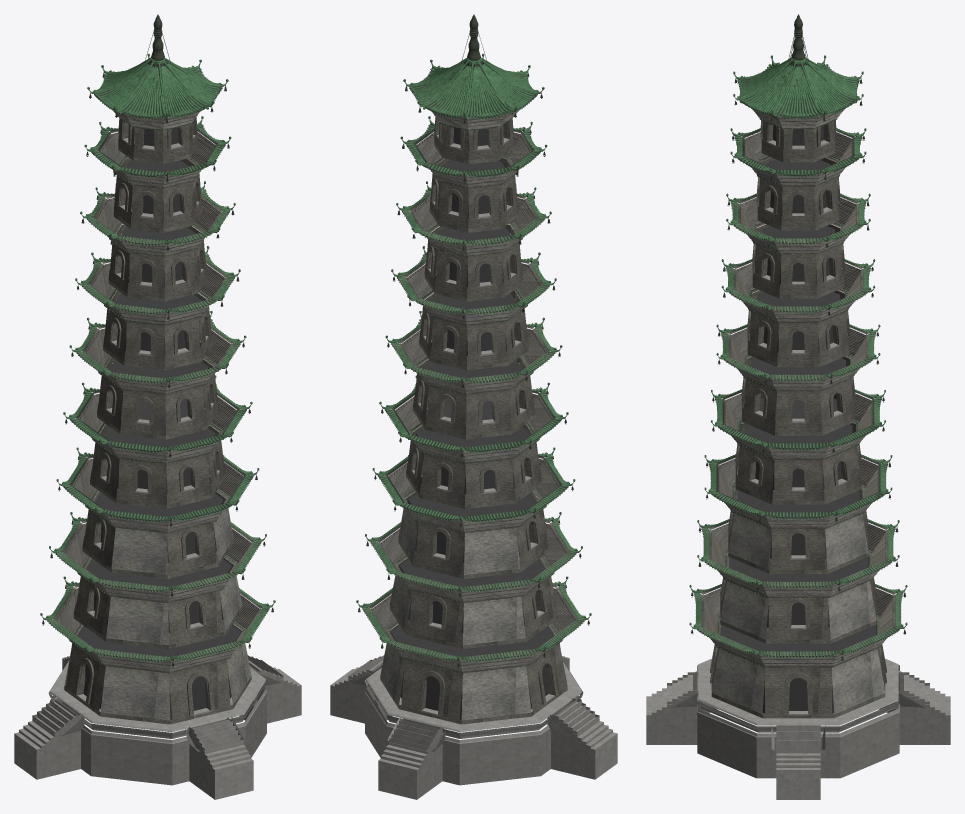
3 renders of one model, left to right at view 1: azimuth 30°, elevation 25°; view 2: azimuth 150°, elevation 25°; view 3: azimuth 270°, elevation 25°, orthographic.
Visible parts, largest first — view 1: 塔身, Longxiang_Foundation, 塔顶, 塔基; view 2: 塔身, Longxiang_Foundation, 塔顶, 塔基; view 3: 塔身, Longxiang_Foundation, 塔基, 塔顶.
Part boxes in pixels (x1=…): 塔身: x1=40, y1=116, x2=275, y2=724; Longxiang_Foundation: x1=14, y1=656, x2=301, y2=799; 塔顶: x1=87, y1=14, x2=228, y2=130; 塔基: x1=32, y1=655, x2=283, y2=751; 塔身: x1=356, y1=116, x2=591, y2=724; Longxiang_Foundation: x1=330, y1=656, x2=617, y2=799; 塔顶: x1=403, y1=14, x2=544, y2=130; 塔基: x1=348, y1=655, x2=599, y2=751; 塔身: x1=689, y1=120, x2=907, y2=718; Longxiang_Foundation: x1=646, y1=672, x2=950, y2=799; 塔基: x1=667, y1=658, x2=929, y2=750; 塔顶: x1=733, y1=14, x2=863, y2=129.
Bounding box in the file's own units: 21.14 × 55.34 × 21.14.
13 materials, 13 textured.
